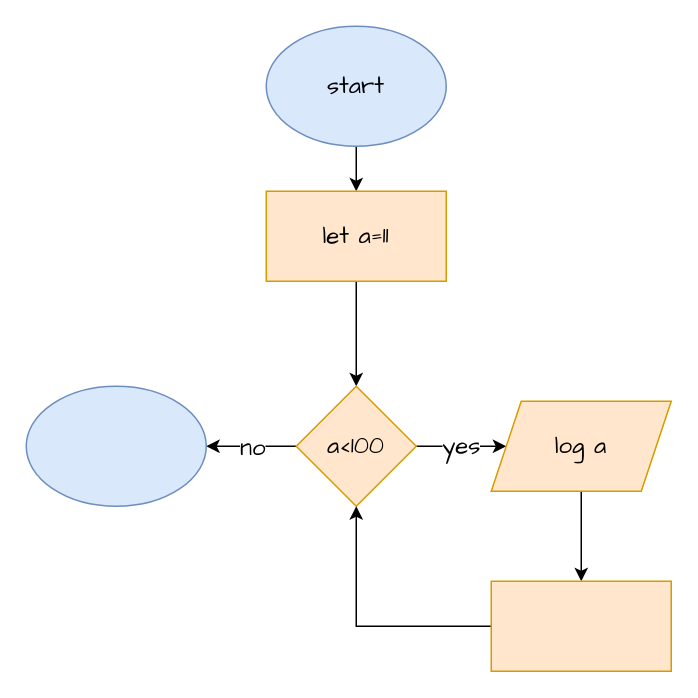
Some shapes in this 698 by 698 pixel diagram are drawn without their labels. The shapes that lost their labels are listed below. From the top down, each one's centre as x and y in pixels, then its label:
point 115,445: end
point 580,625: a+=2
